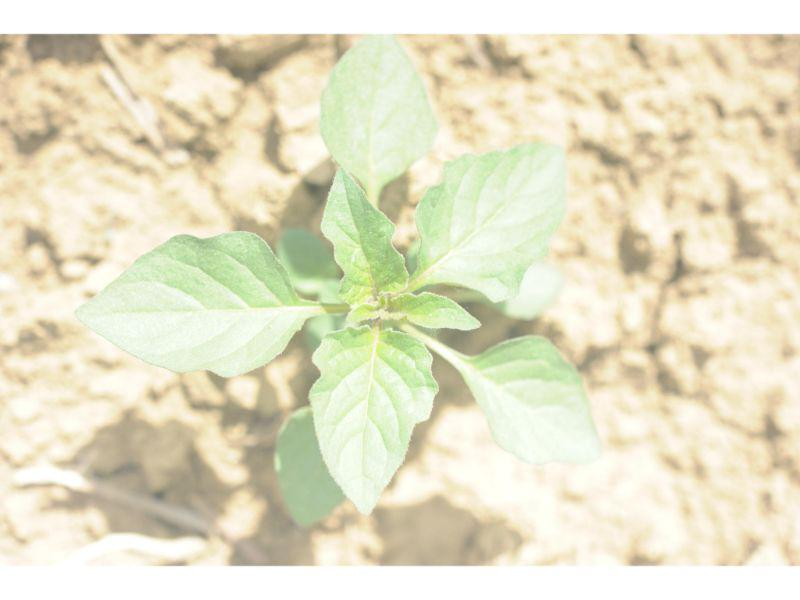nightshade: (74, 30, 602, 515)
